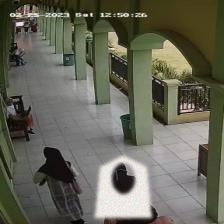Mukena: (94, 155, 152, 217)
